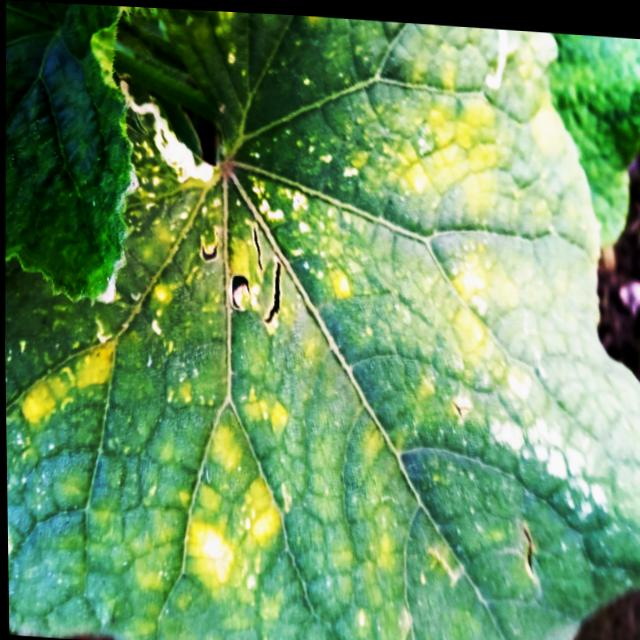Downy-Mildew: (4, 6, 640, 640)
